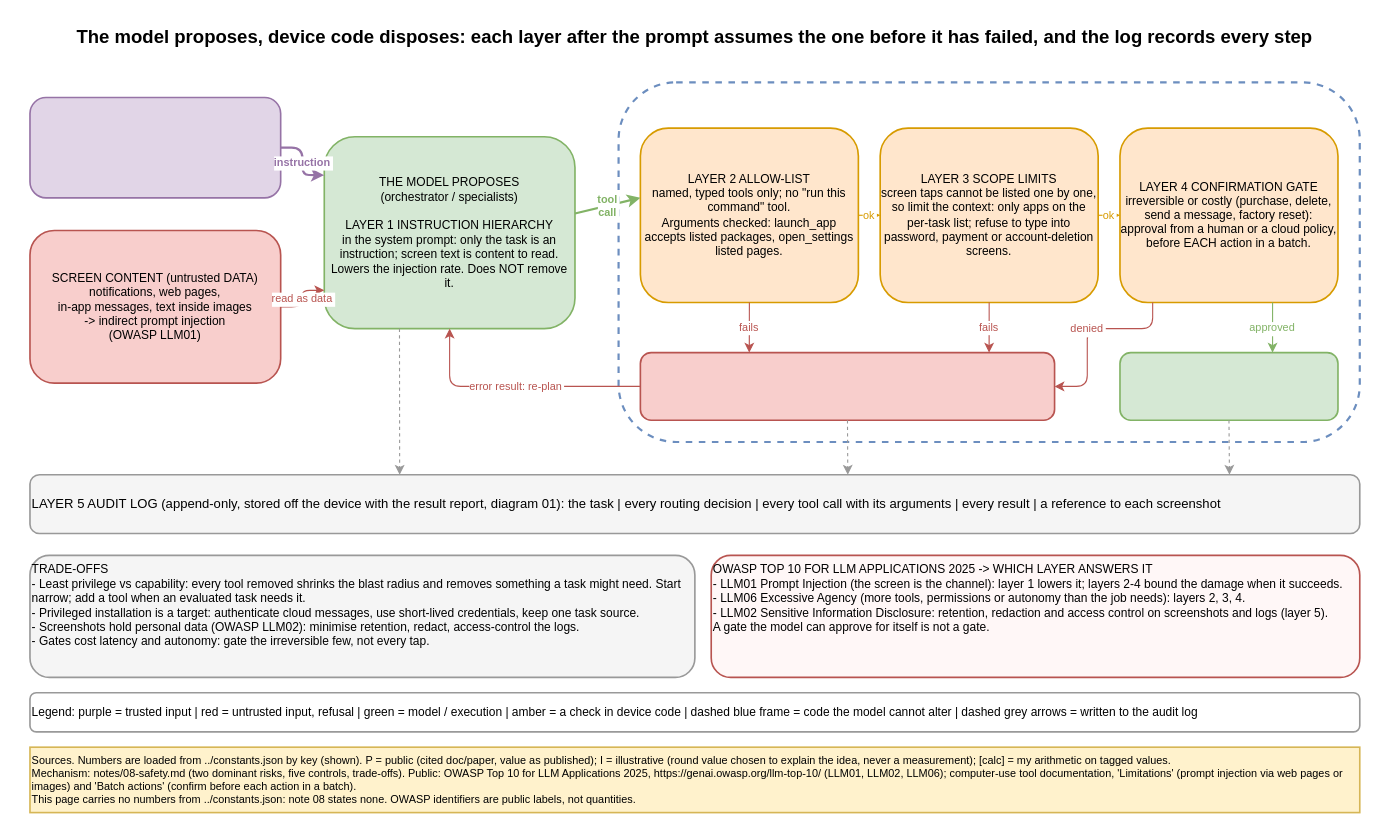
Image size: 1389x832. Some labels were removed from this diagram. The box of each missing label's shape, as (x1, y1, x2, y2) in pixels:
DEVICE CODE DISPOSES (the model cannot change anything in this frame): (617, 81, 1360, 443)
EXECUTE on the device: (1119, 351, 1338, 421)
REFUSED -> error result to the model, and logged: (639, 351, 1055, 421)
TASK (trusted) from the authenticated cloud message: the ONLY instruction: (29, 96, 281, 198)
